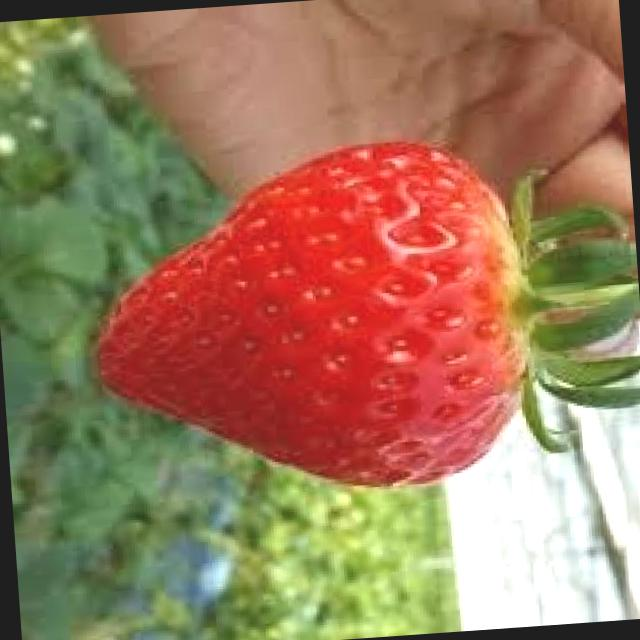Strawberry: (82, 131, 543, 511)
